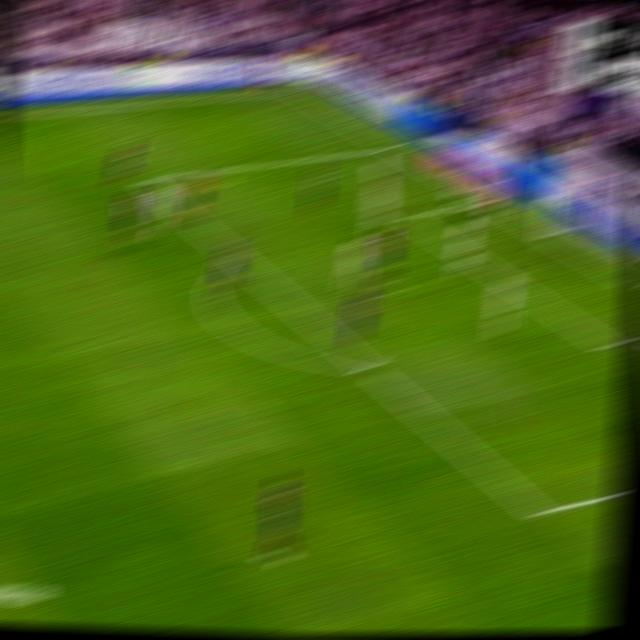bigarea_bottom_inner: (525, 496, 553, 528)
bigarea_top_outter: (381, 140, 403, 153)
bottom_arc_area_intersection: (356, 356, 382, 380)
corner: (285, 84, 309, 95)
smallarea_bottom_inner: (596, 333, 618, 355)
smallarea_top_inner: (395, 207, 419, 226)
